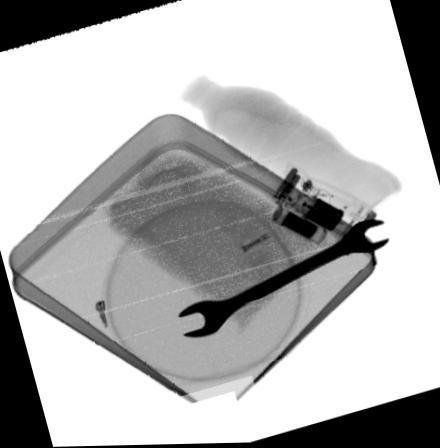Wrench: (173, 219, 389, 339)
